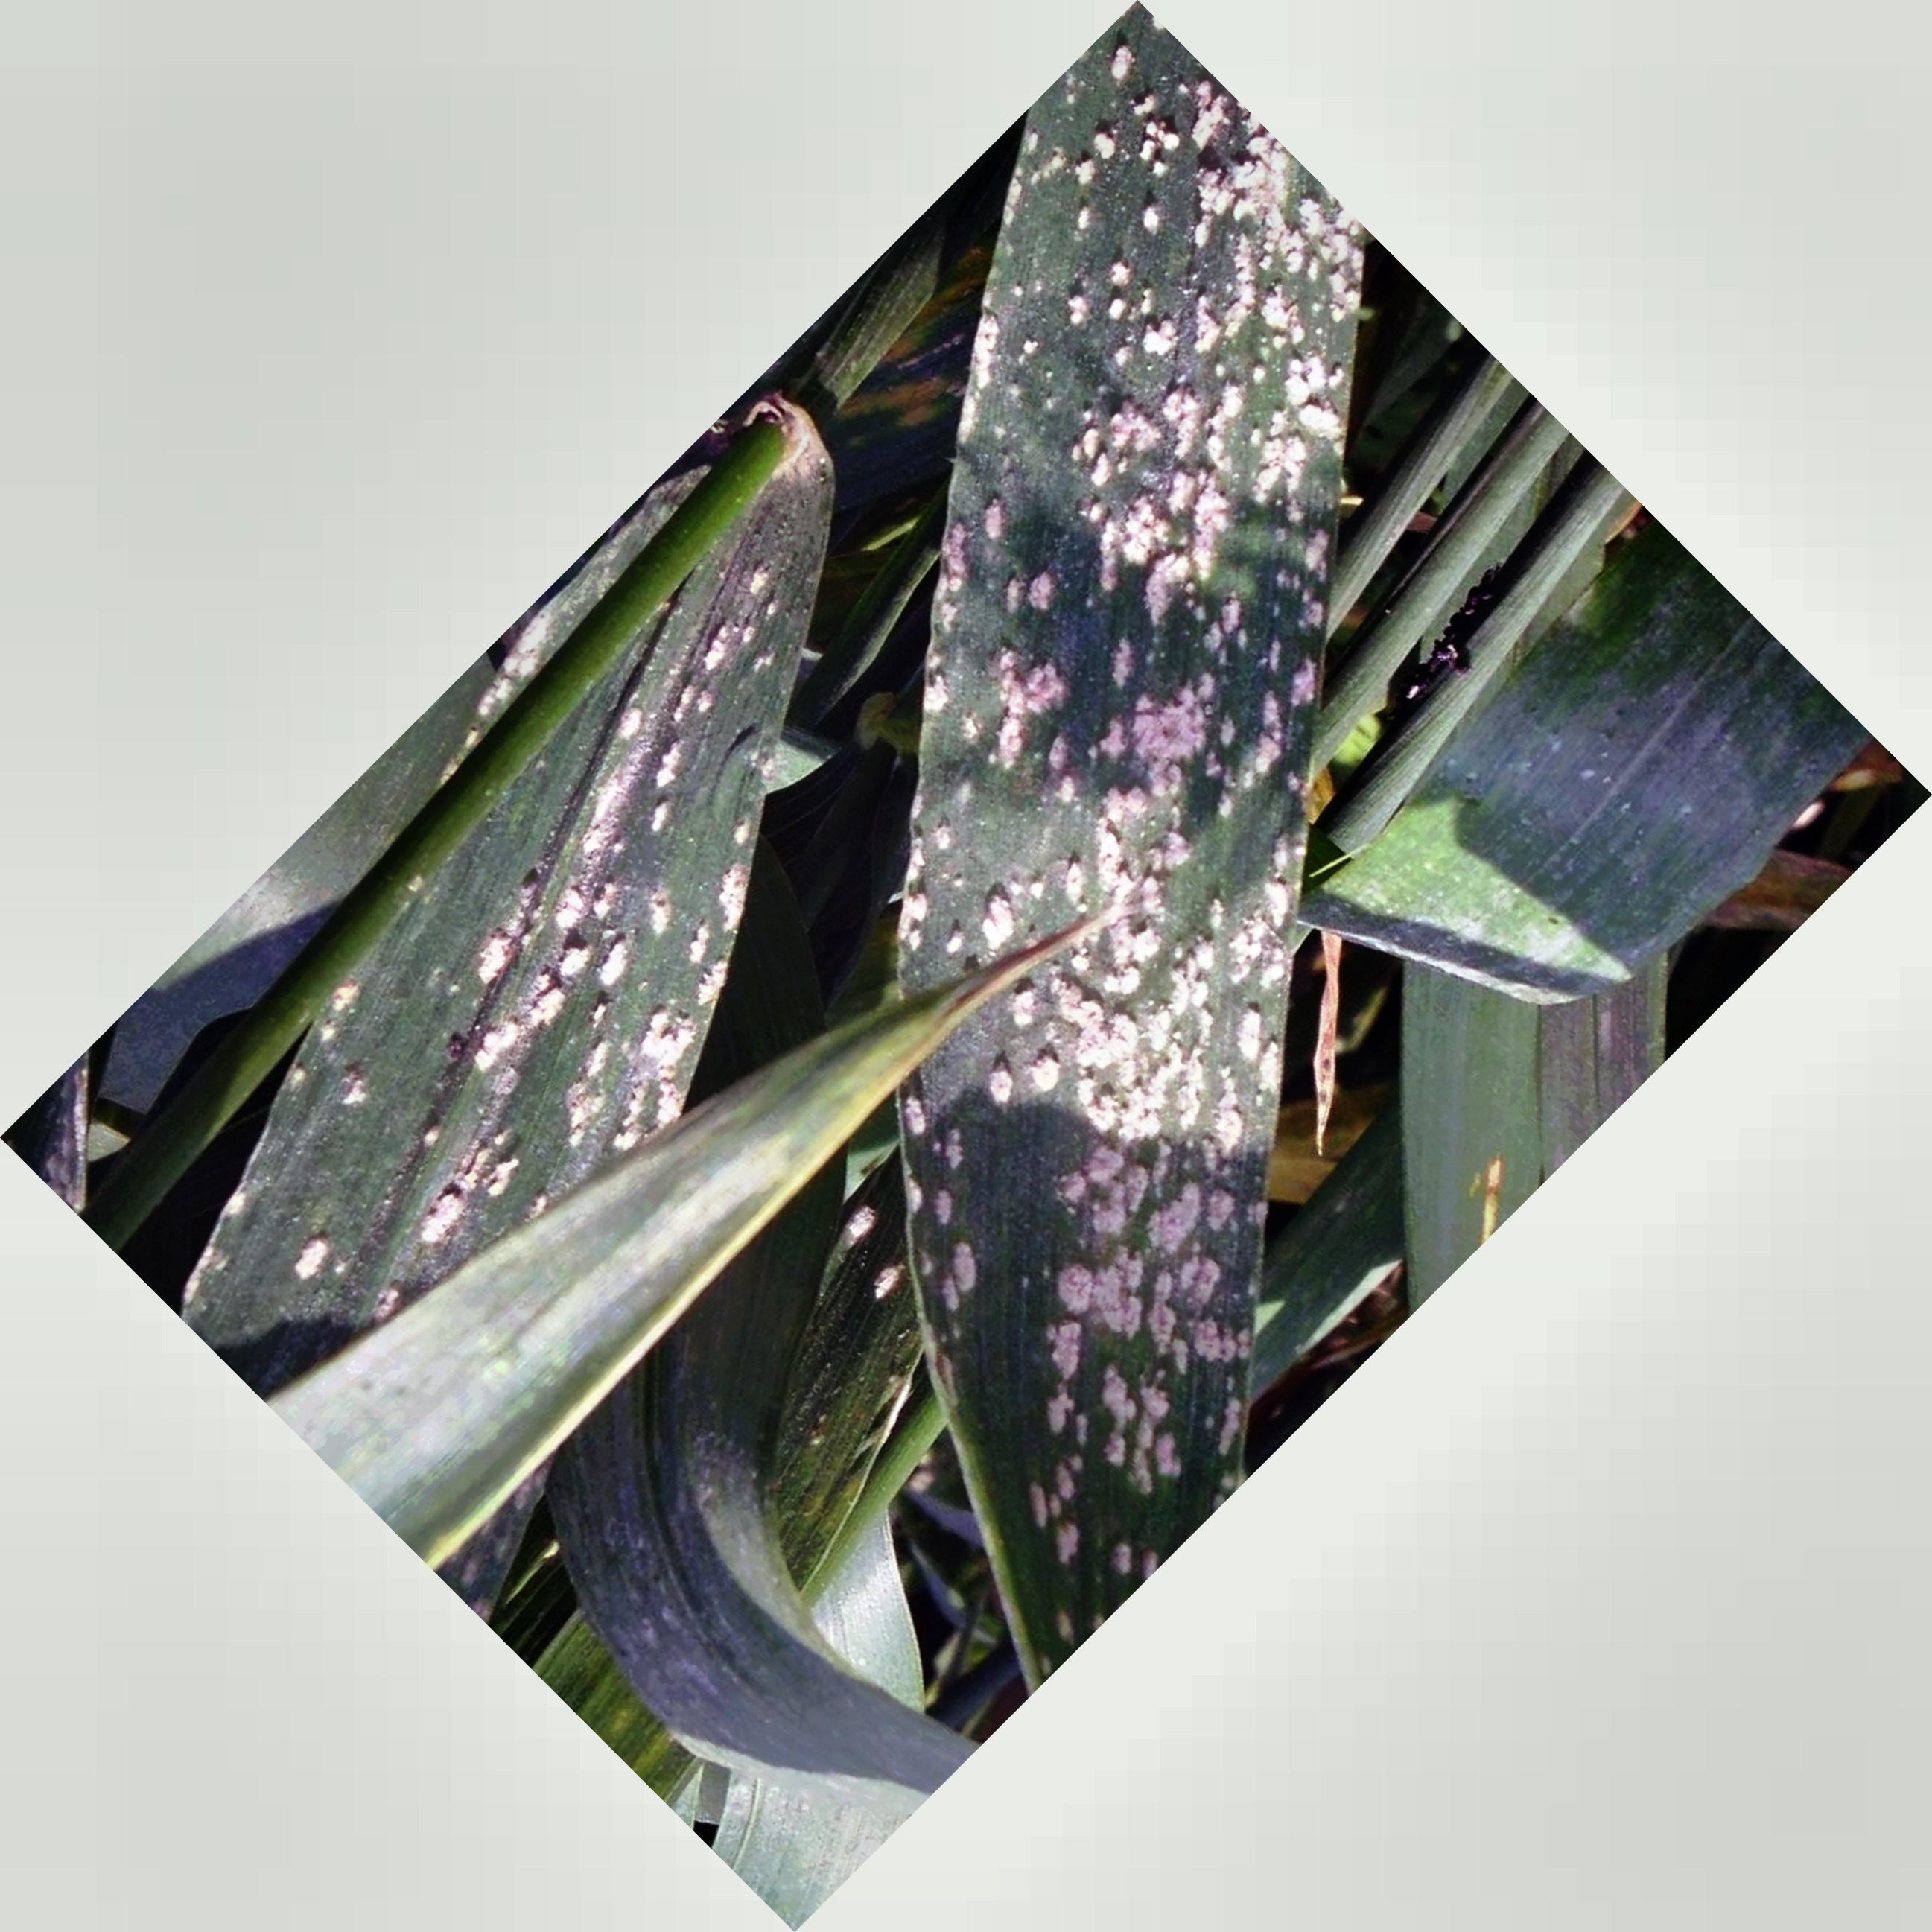Powdery Mildew: (906, 134, 1371, 1369), (387, 577, 780, 1253)
